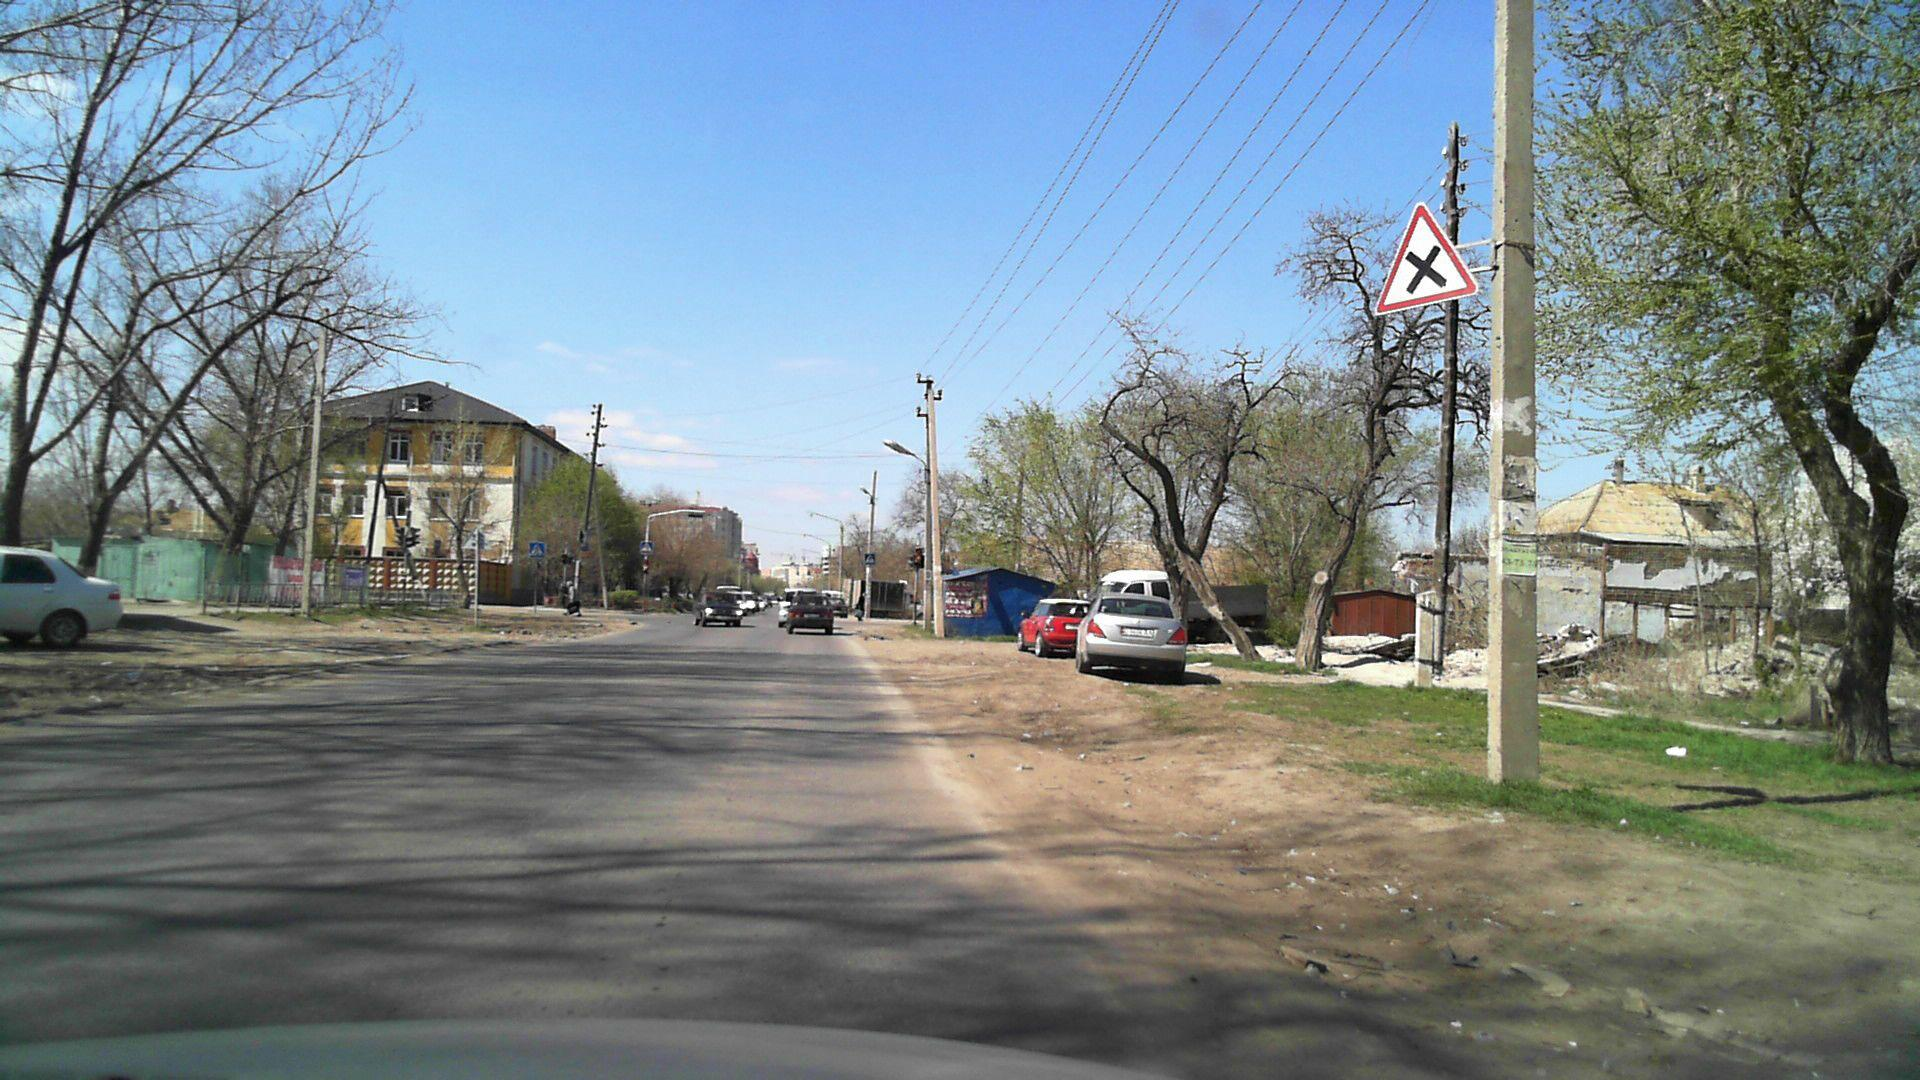1_6: (1373, 202, 1480, 315)
5_19_1: (865, 553, 875, 564)
5_19_2: (529, 542, 545, 557), (640, 541, 653, 555)
